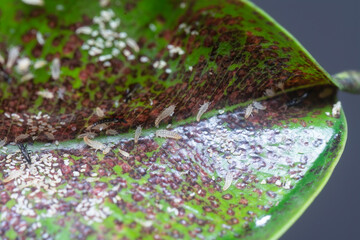Thrips: (77, 113, 134, 158), (244, 84, 273, 124), (145, 101, 181, 128), (195, 95, 216, 124)
